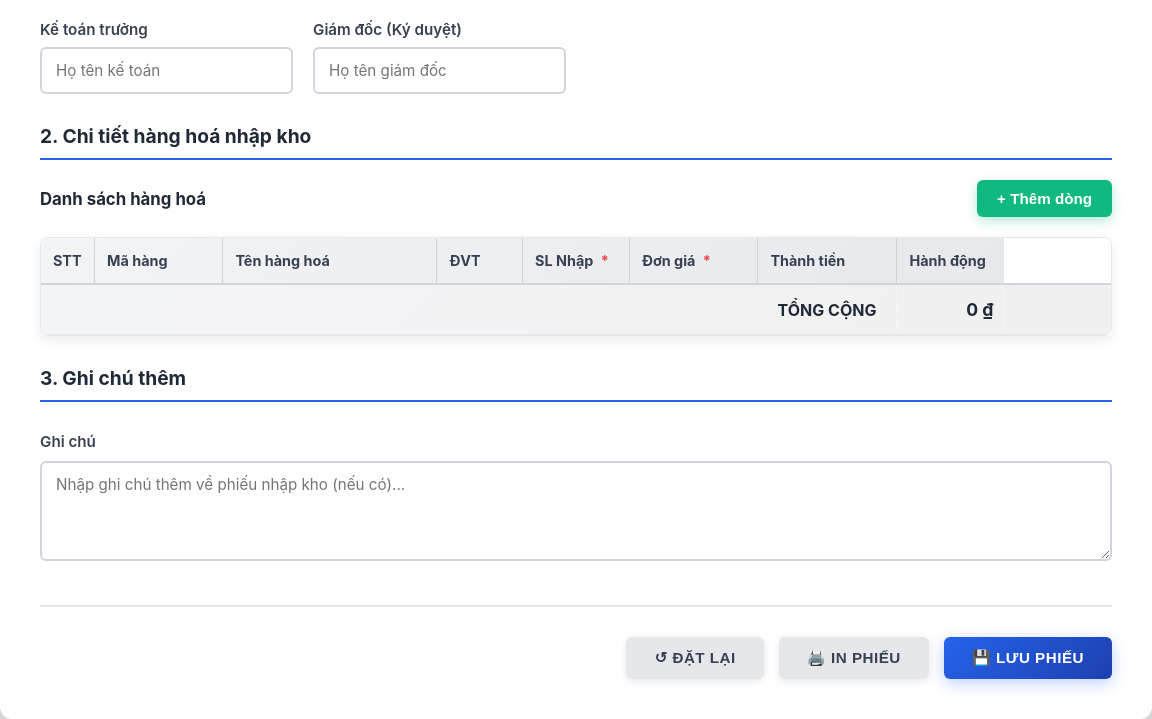
Test: InventoryReceiptForm › shows validation errors when required fields are missing
(page scrolled)
What coordinates should you click on to do the following:
click the button "💾 Lưu phiếu"
I would click on:
 (1028, 658)
Its box is [944,637,1112,679].
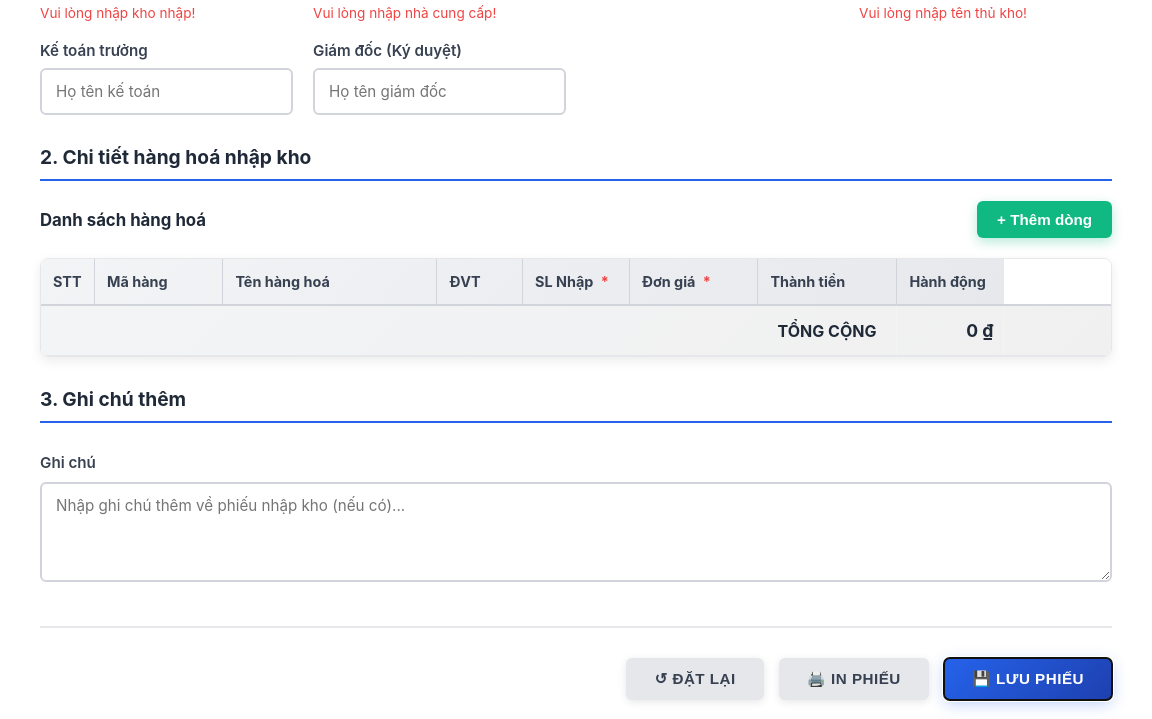
Expected: the text "Vui lòng nhập kho nhập!" is shown, [40,5,195,21]
Expected: the text "Vui lòng nhập nhà cung cấp!" is shown, [313,5,496,21]
Expected: the text "Vui lòng nhập tên thủ kho!" is shown, [859,5,1027,21]
